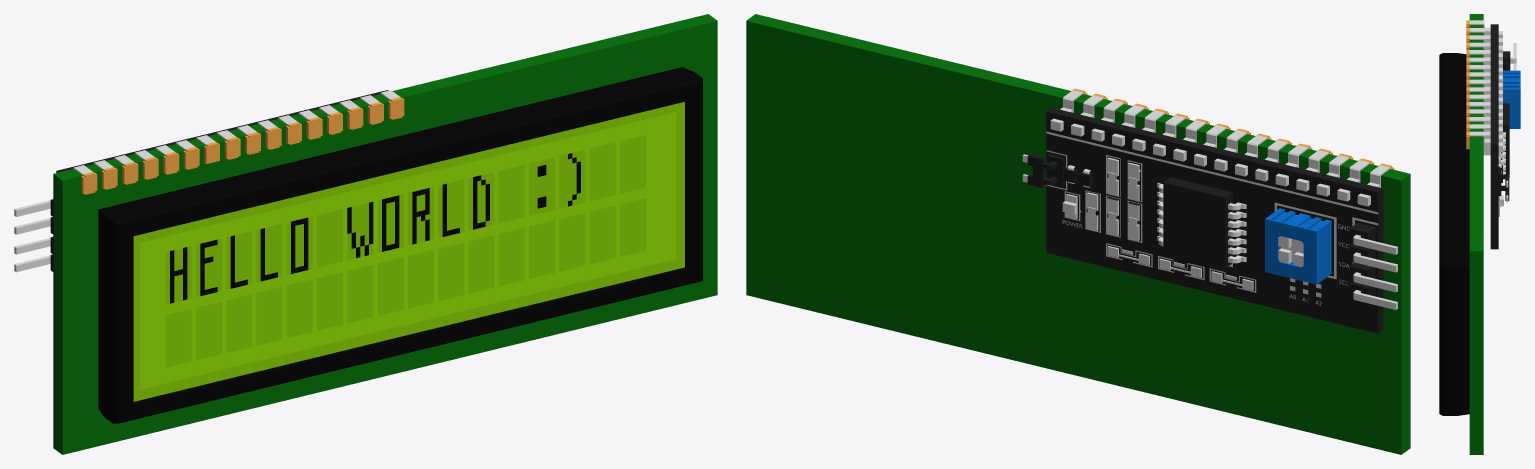
The model's file is LCD16x2_I2C.glb.
The picture shows the model from 3 angles, left to right: view 1: azimuth 30°, elevation 25°; view 2: azimuth 150°, elevation 25°; view 3: azimuth 270°, elevation 25°; orthographic projection. The views are drawn at different scales.
Parts seen in each view (by area): view 1: LCD 16 x 2 (I2C), LCD 16 x 2 (I2C).001, Cube; view 2: LCD 16 x 2 (I2C), Cube; view 3: LCD 16 x 2 (I2C), Cube, GND.003.
Part boxes in pixels (left/top/right/bottom): LCD 16 x 2 (I2C): left=53, top=14, right=717, bottom=454; LCD 16 x 2 (I2C).001: left=133, top=102, right=684, bottom=401; Cube: left=50, top=90, right=388, bottom=271; LCD 16 x 2 (I2C): left=746, top=14, right=1410, bottom=454; Cube: left=1022, top=108, right=1383, bottom=333; LCD 16 x 2 (I2C): left=1439, top=14, right=1502, bottom=454; Cube: left=1490, top=24, right=1520, bottom=249; GND.003: left=1510, top=43, right=1516, bottom=63.
Bounding box in the file's own units: 1.45 × 0.5674 × 0.2038.
